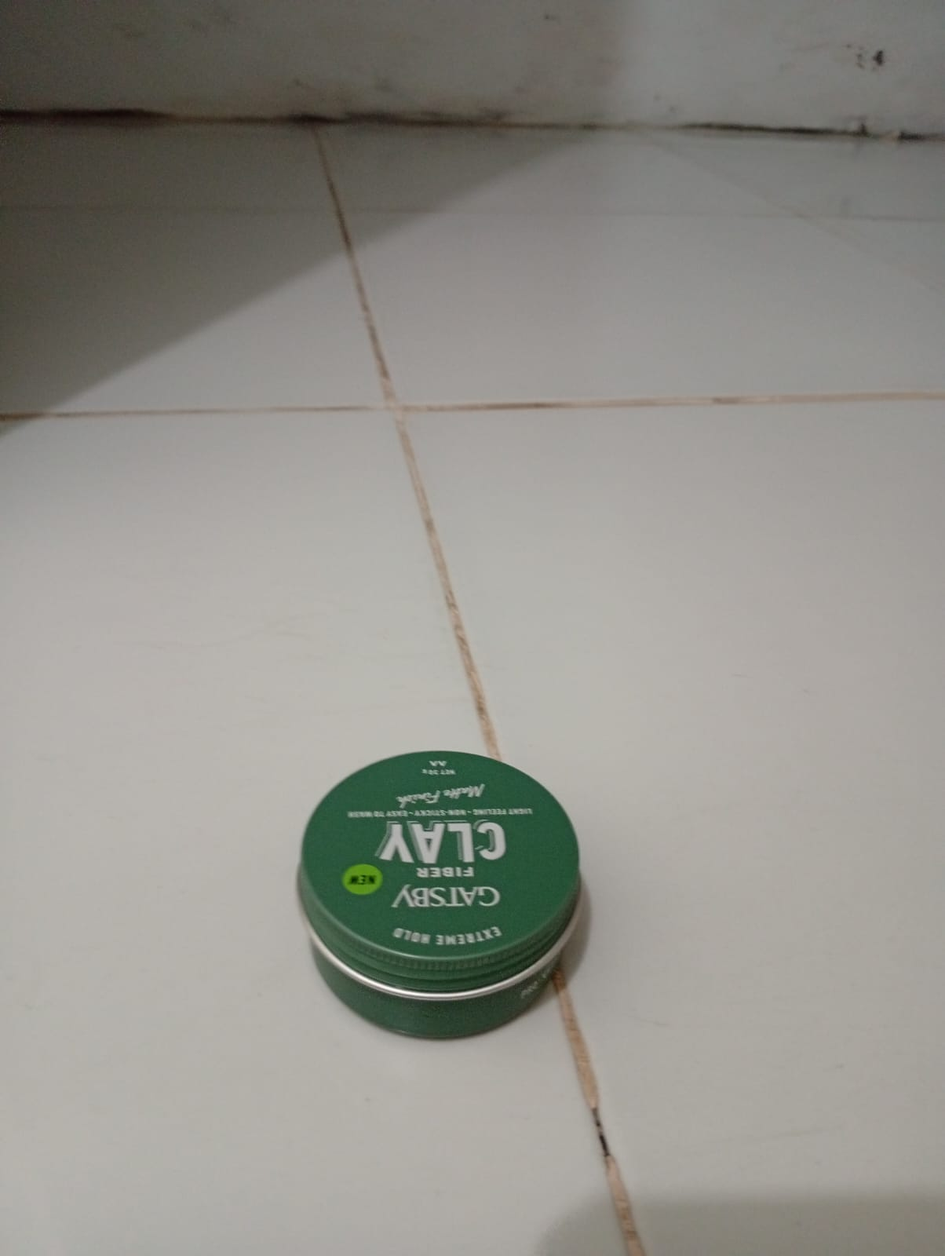Minyak_Rambut: (253, 737, 609, 1048)
